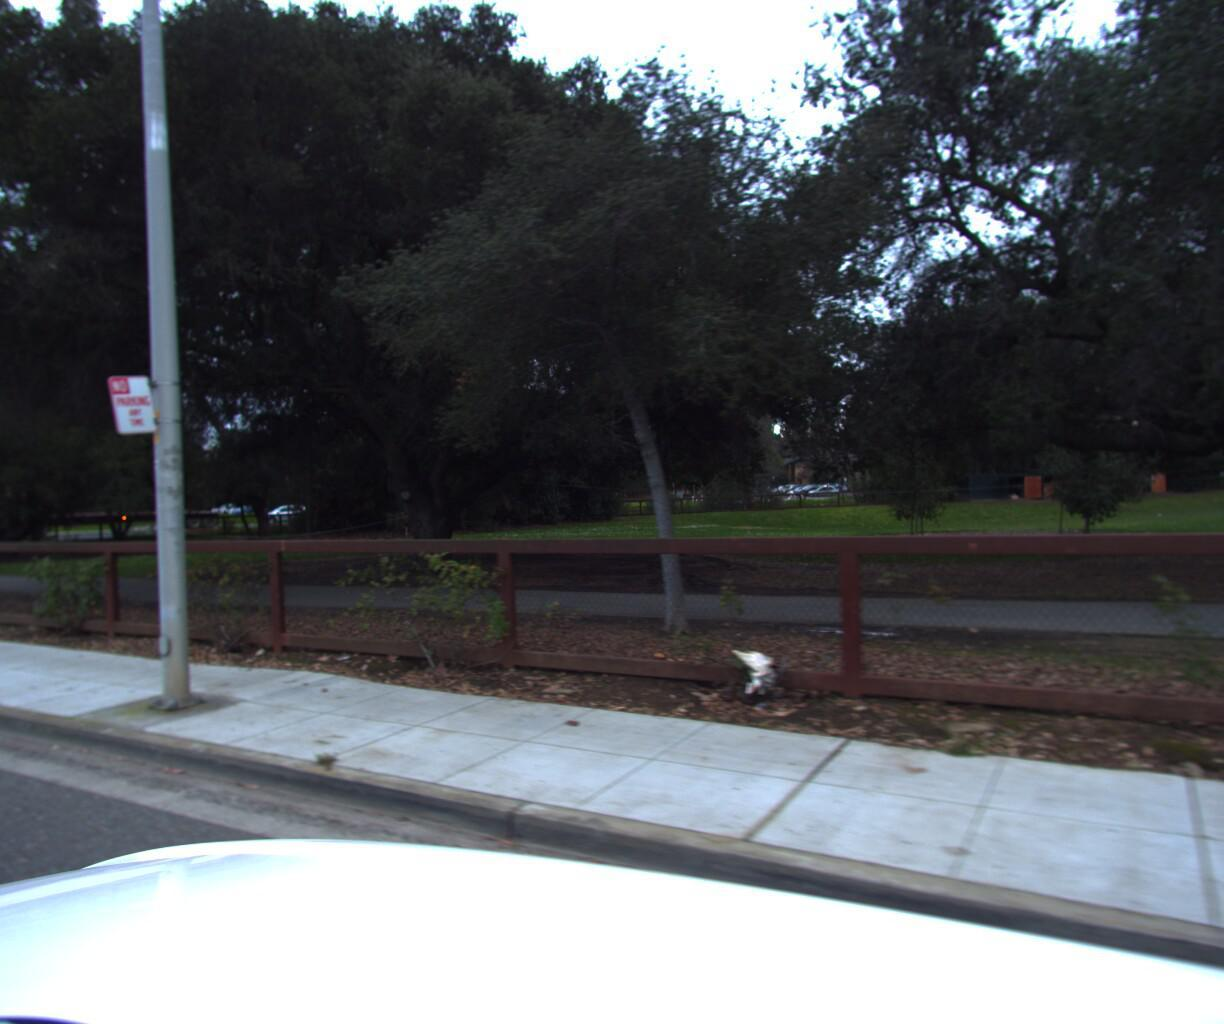truck: (0, 485, 223, 543)
